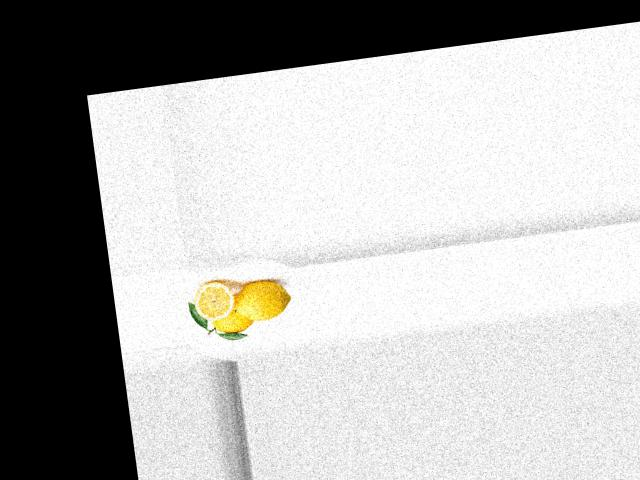lemon: (204, 294, 258, 338)
